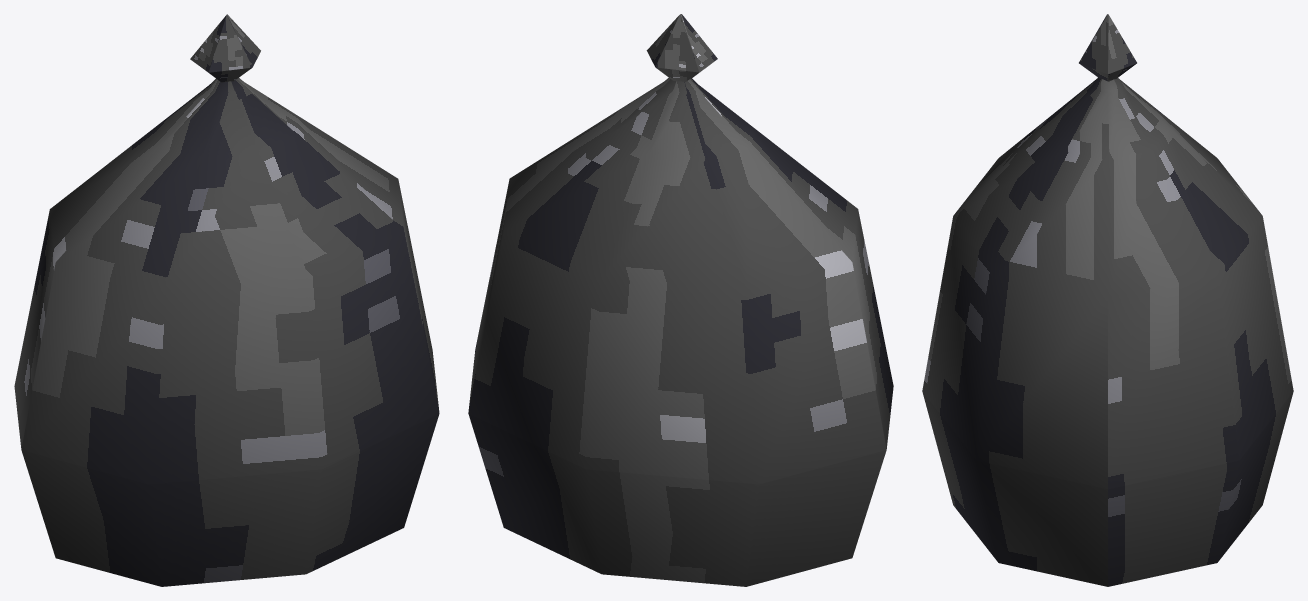
Rendered from trash_bag.glb.
3 views of the same model, side by side, from view 1: azimuth 30°, elevation 25°; view 2: azimuth 150°, elevation 25°; view 3: azimuth 270°, elevation 25° (orthographic). The views are drawn at different scales.
Visible parts, largest first — view 1: trash_bag; view 2: trash_bag; view 3: trash_bag.
Part boxes in pixels (bbox=[...]): trash_bag: bbox=[14, 14, 439, 586]; trash_bag: bbox=[468, 14, 893, 586]; trash_bag: bbox=[922, 14, 1293, 586].
Size of the model in its own units: 0.48 by 0.58 by 0.384.
1 material, 1 textured.
